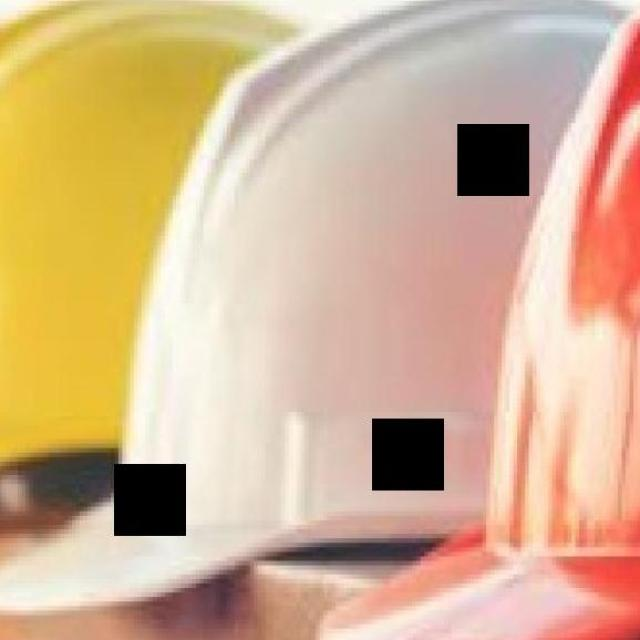red helmet: (338, 23, 640, 640)
white helmet: (13, 1, 617, 618)
yellow helmet: (1, 3, 317, 474)
